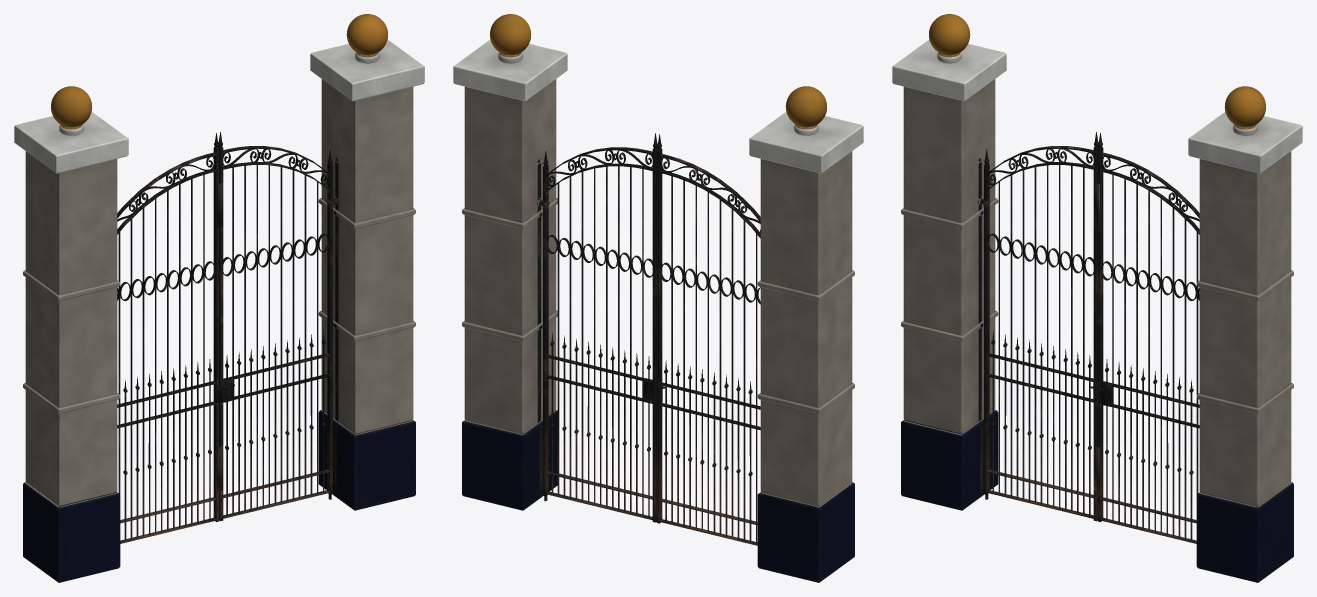
File: iron_gate.glb
The picture shows the model from 3 angles, left to right: view 1: azimuth 30°, elevation 25°; view 2: azimuth 150°, elevation 25°; view 3: azimuth 330°, elevation 25°; orthographic projection.
Parts seen in each view (by area): view 1: iron_gate; view 2: iron_gate; view 3: iron_gate.
Part boxes in pixels (left/top/right/bottom): iron_gate: left=14, top=14, right=424, bottom=582; iron_gate: left=453, top=14, right=863, bottom=582; iron_gate: left=892, top=14, right=1302, bottom=582.
Bounding box in the file's own units: 2.06 × 2.53 × 0.41.
2 materials, 2 textured.
